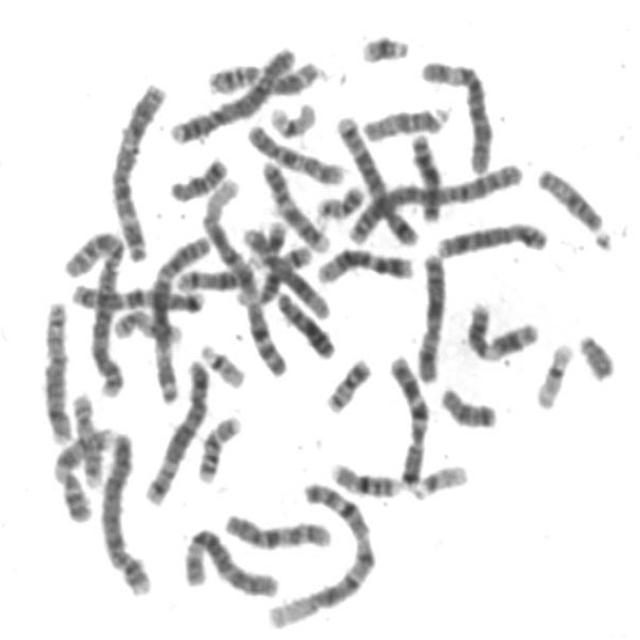A1: (195, 170, 291, 379), (260, 472, 378, 632)
A2: (341, 155, 524, 247), (58, 221, 129, 399)
A3: (101, 73, 170, 263), (145, 227, 213, 407)
B4: (164, 37, 300, 146), (95, 425, 154, 598)
B5: (329, 106, 421, 248), (137, 351, 212, 507)
C10: (239, 116, 348, 186), (216, 506, 335, 552)
C11: (460, 294, 541, 365), (199, 53, 324, 97)
C12: (237, 218, 332, 322), (309, 238, 416, 285)
C6: (414, 50, 496, 175), (176, 520, 282, 600)
C7: (383, 346, 431, 491), (64, 275, 210, 316)
C8: (35, 293, 74, 447), (428, 212, 550, 260)
C9: (256, 154, 332, 255), (46, 420, 118, 523)
D13: (269, 284, 337, 361), (405, 125, 444, 225)
D14: (244, 237, 314, 308), (172, 252, 259, 294)
D15: (530, 160, 614, 246), (357, 98, 452, 142)
E16: (190, 407, 243, 485), (324, 454, 404, 498)
E17: (66, 386, 106, 490), (106, 302, 184, 346)
E18: (162, 148, 230, 203), (433, 378, 500, 430)
F19: (528, 333, 576, 411), (262, 94, 318, 140)
F20: (318, 350, 374, 416), (309, 176, 368, 221)
G21: (238, 213, 289, 263), (353, 25, 412, 66)
G22: (194, 334, 248, 390), (406, 456, 470, 501)
X: (409, 246, 449, 384)
Y: (571, 325, 618, 383)
